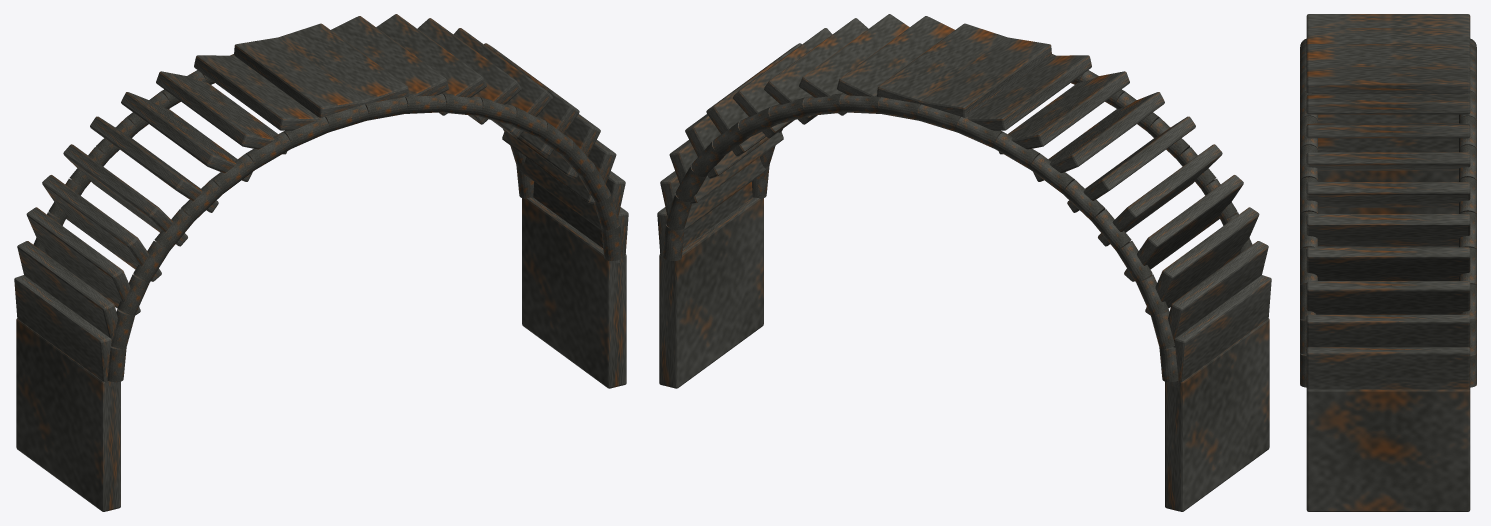
The model's file is lengkung_terowongan.glb.
3 views of the same model, side by side, from view 1: azimuth 30°, elevation 25°; view 2: azimuth 150°, elevation 25°; view 3: azimuth 270°, elevation 25° (orthographic). The views are drawn at different scales.
Parts seen in each view (by area): view 1: Abutmen.001, Abutmen, Selubung.010, Selubung.019, Selubung.009, Selubung.011, Selubung.017, Selubung.012, Selubung.018, Selubung.008, Selubung.016, Selubung.007 (+22 smaller); view 2: Abutmen.001, Abutmen, Selubung.010, Selubung.019, Selubung.009, Selubung.011, Selubung.017, Selubung.012, Selubung.018, Selubung.008, Selubung.016, Selubung.007 (+22 smaller); view 3: Abutmen.001, Selubung, Selubung.001, Selubung.002, Selubung.003, Selubung.004, Selubung.009, Selubung.005, Selubung.010, Selubung.008, Selubung.006, Abutmen (+24 smaller).
Boxes of the visible parts, box(x1,y1,x2,y2) form: Abutmen.001: box(522, 197, 626, 388); Abutmen: box(16, 318, 120, 511); Selubung.010: box(234, 37, 367, 117); Selubung.019: box(14, 275, 114, 388); Selubung.009: box(279, 23, 408, 104); Selubung.011: box(194, 55, 318, 130); Selubung.017: box(26, 207, 140, 315); Selubung.012: box(156, 71, 287, 154); Selubung.018: box(17, 241, 117, 340); Selubung.008: box(331, 16, 448, 96); Selubung.016: box(42, 175, 161, 281); Selubung.007: box(376, 14, 486, 115); Abutmen.001: box(659, 197, 763, 388); Abutmen: box(1165, 318, 1269, 511); Selubung.010: box(918, 37, 1051, 117); Selubung.019: box(1171, 275, 1271, 388); Selubung.009: box(877, 23, 1006, 104); Selubung.011: box(967, 55, 1091, 130); Selubung.017: box(1145, 207, 1259, 315); Selubung.012: box(998, 71, 1129, 154); Selubung.018: box(1168, 241, 1268, 340); Selubung.008: box(837, 16, 954, 96); Selubung.016: box(1124, 175, 1243, 281); Selubung.007: box(799, 14, 909, 115); Abutmen.001: box(1306, 389, 1470, 511); Selubung: box(1306, 347, 1470, 389); Selubung.001: box(1306, 314, 1470, 347); Selubung.002: box(1306, 281, 1470, 314); Selubung.003: box(1306, 247, 1470, 280); Selubung.004: box(1306, 214, 1470, 245); Selubung.009: box(1306, 66, 1470, 93); Selubung.005: box(1306, 182, 1470, 207); Selubung.010: box(1306, 44, 1470, 67); Selubung.008: box(1306, 94, 1470, 114); Selubung.006: box(1306, 152, 1470, 170); Abutmen: box(1318, 170, 1458, 247).
Bounding box in the file's own units: 6.98 × 4.44 × 2.16.
1 material, 1 textured.
